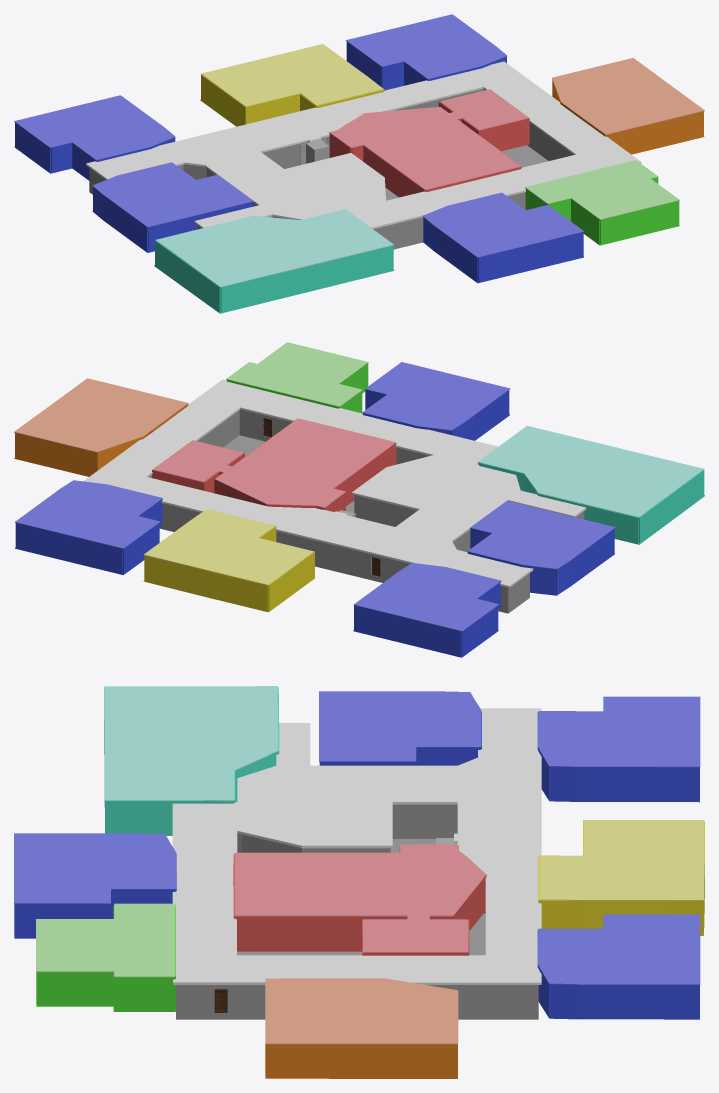
File: Greybox_MAGIC_V2.fbx
The picture shows the model from 3 angles, top to bottom: view 1: azimuth 30°, elevation 25°; view 2: azimuth 150°, elevation 25°; view 3: azimuth 270°, elevation 25°; orthographic projection. The views are drawn at different scales.
Visible parts, largest first — view 1: Floor Celling, Cellings Room 1, Cellings Room 5, Cellings Room 2, Cellings Room 3, Room 5, Cellings Room 9, Cellings Room 6, Cellings Room 7, Cellings Room 8, Cellings Room 4, Floors (+8 smaller); view 2: Floor Celling, Cellings Room 1, Cellings Room 5, Floors, Cellings Room 2, Cellings Room 3, Cellings Room 7, Cellings Room 8, Cellings Room 9, Cellings Room 6, Cellings Room 4, Room 3 (+8 smaller); view 3: Floor Celling, Cellings Room 1, Cellings Room 5, Cellings Room 2, Cellings Room 3, Floors, Cellings Room 8, Cellings Room 6, Cellings Room 9, Cellings Room 7, Cellings Room 4, Room 2 (+8 smaller).
Part boxes in pixels (x1,y1,x2,y2): Floor Celling: (86, 61, 641, 229); Cellings Room 1: (329, 89, 528, 190); Cellings Room 5: (155, 209, 393, 287); Cellings Room 2: (552, 58, 704, 134); Cellings Room 3: (201, 44, 383, 106); Room 5: (154, 240, 394, 313); Cellings Room 9: (422, 192, 583, 257); Cellings Room 6: (92, 162, 253, 227); Cellings Room 7: (14, 95, 175, 160); Cellings Room 8: (346, 14, 507, 79); Cellings Room 4: (525, 160, 679, 219); Floors: (89, 88, 573, 249); Floor Celling: (83, 379, 586, 587); Cellings Room 1: (153, 418, 395, 508); Cellings Room 5: (477, 425, 704, 517); Floors: (148, 409, 584, 613); Cellings Room 2: (14, 378, 188, 452); Cellings Room 3: (143, 509, 314, 585); Cellings Room 7: (353, 563, 501, 631); Cellings Room 8: (15, 480, 162, 548); Cellings Room 9: (362, 362, 510, 430); Cellings Room 6: (467, 501, 615, 569); Cellings Room 4: (226, 342, 368, 406); Room 3: (143, 526, 314, 612); Floor Celling: (172, 708, 541, 984); Cellings Room 1: (234, 844, 486, 952); Cellings Room 5: (104, 686, 278, 801); Cellings Room 2: (265, 978, 458, 1044); Cellings Room 3: (539, 820, 704, 901); Floors: (176, 804, 538, 1019); Cellings Room 8: (538, 914, 700, 984); Cellings Room 6: (319, 691, 481, 761); Cellings Room 9: (14, 833, 176, 903); Cellings Room 7: (538, 696, 700, 767); Cellings Room 4: (36, 903, 175, 977); Room 2: (265, 1044, 457, 1078).
Size of the model in its own units: 13078 by 710 by 10673.
